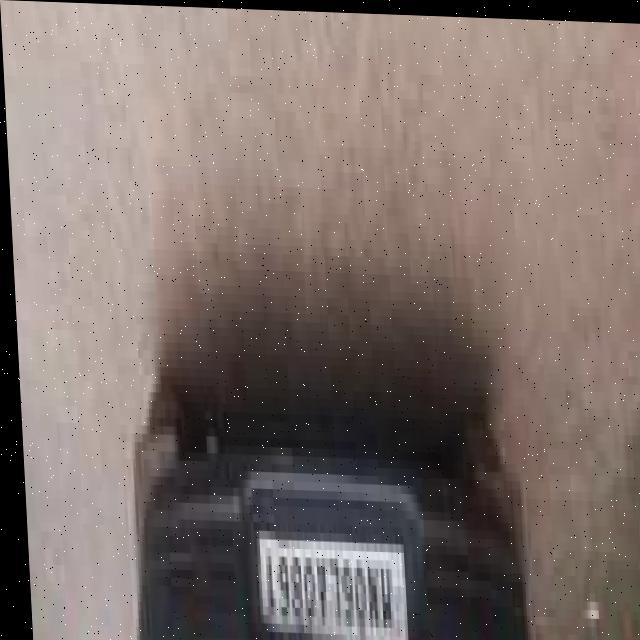plate: (251, 529, 405, 640)
